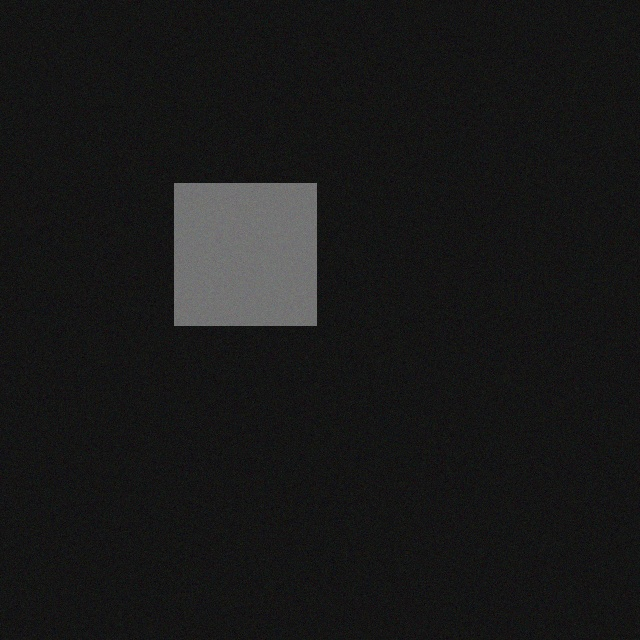square: (186, 171, 328, 313)
